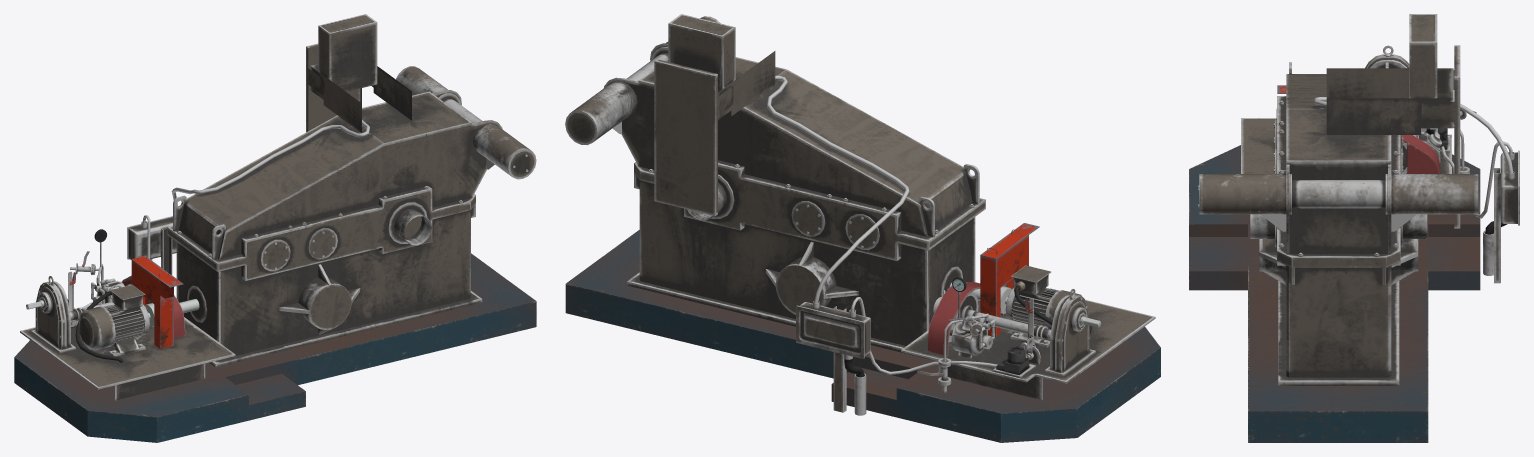
Rendered from KantovWinch.fbx.
The picture shows the model from 3 angles, left to right: view 1: azimuth 30°, elevation 25°; view 2: azimuth 150°, elevation 25°; view 3: azimuth 270°, elevation 25°; orthographic projection. The views are drawn at different scales.
Visible parts, largest first — view 1: Reduktor1, casing1; view 2: Reduktor1, casing1; view 3: Reduktor1, casing1.
Boxes of the visible parts, x1,y1,x2,y2 form: Reduktor1: (14, 66, 536, 442); casing1: (306, 14, 411, 132); Reduktor1: (565, 16, 1160, 442); casing1: (654, 14, 775, 215); Reduktor1: (1189, 45, 1519, 442); casing1: (1326, 14, 1460, 228).
Size of the model in its own units: 312 by 184 by 160.
